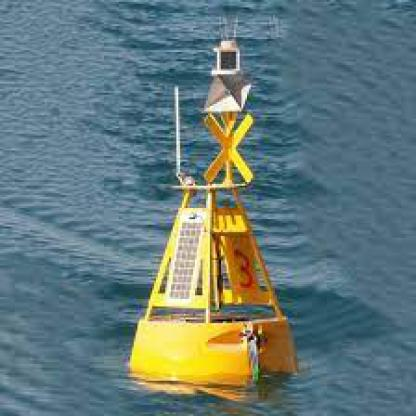buoy: (111, 9, 314, 392)
